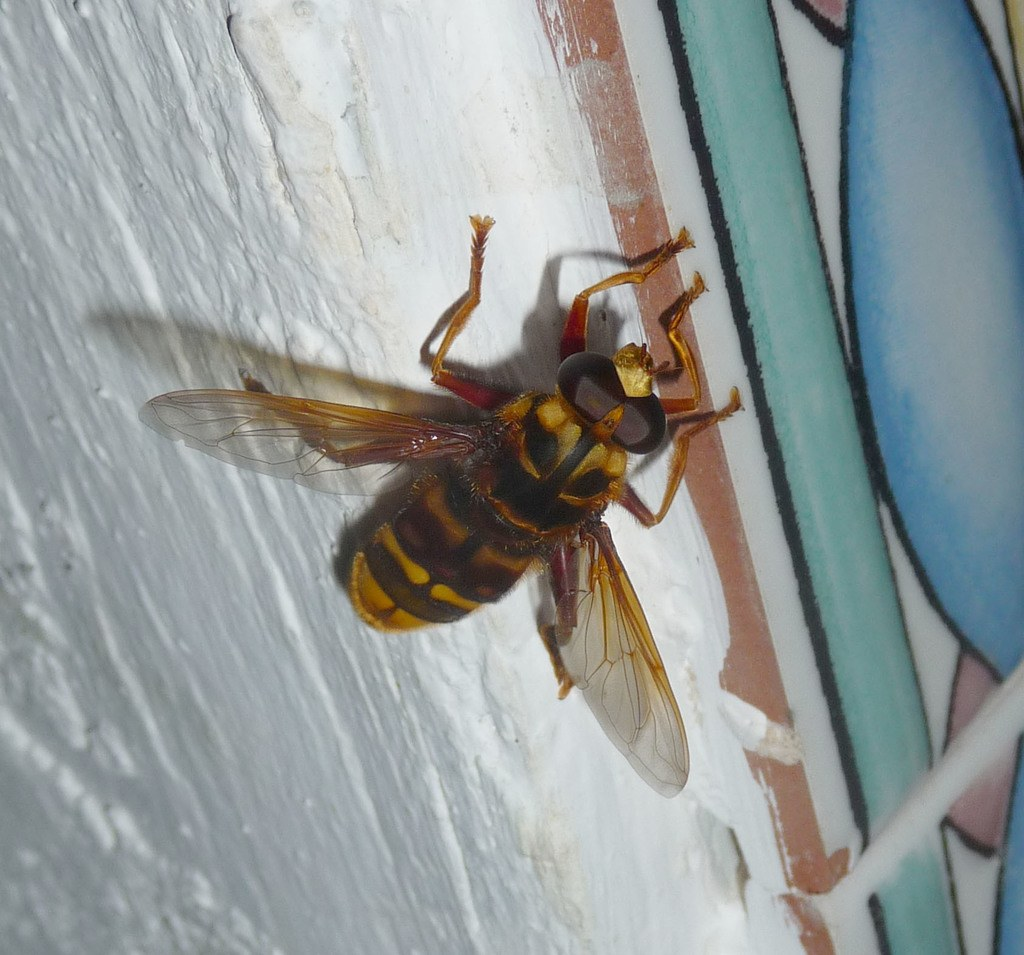bee: (141, 227, 739, 788)
